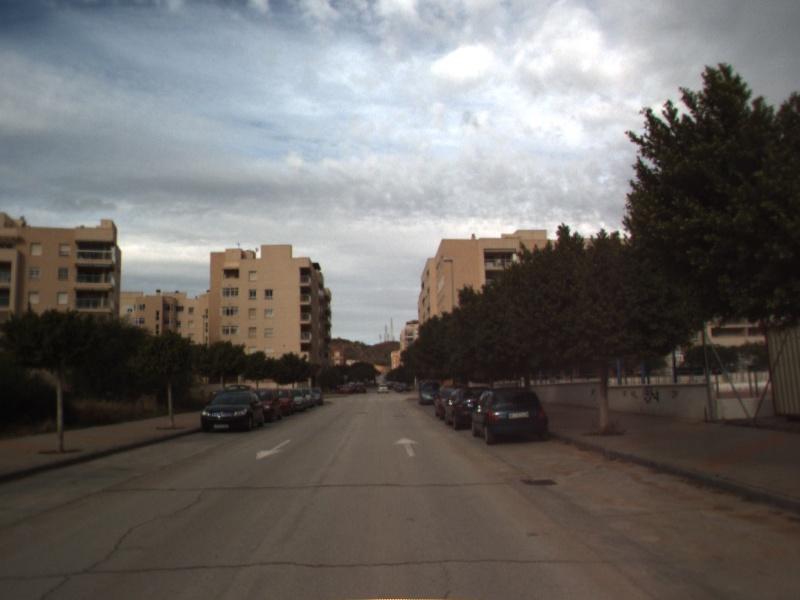STRAIGHT: (391, 435, 423, 458)
